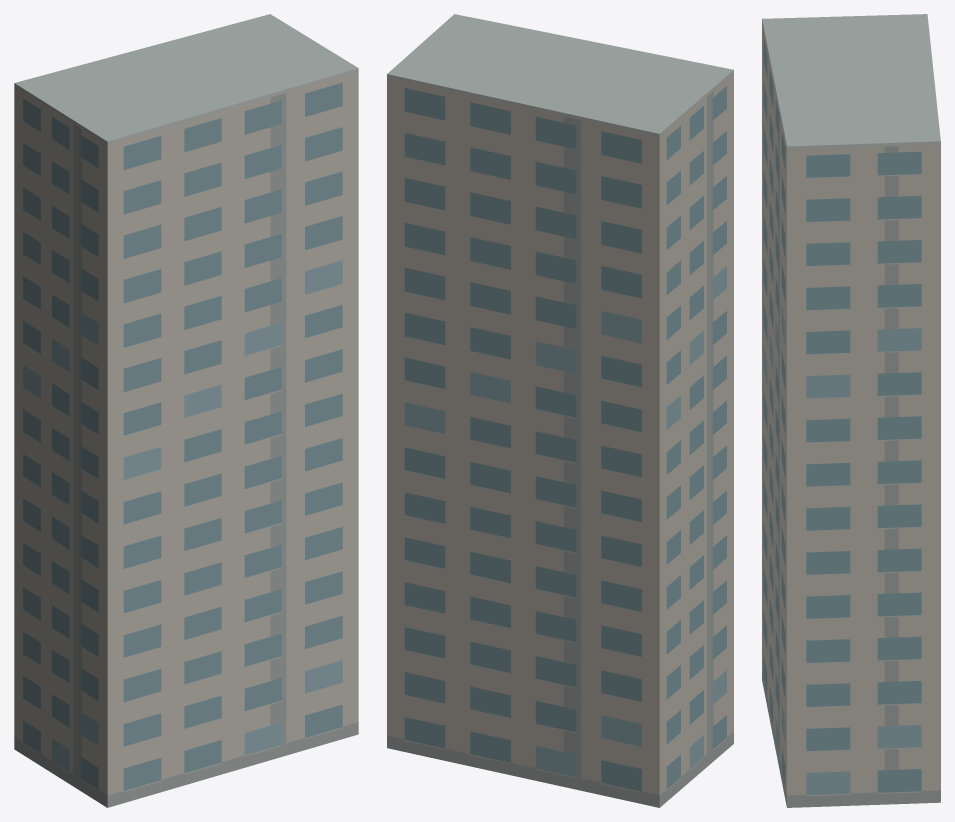
The model's file is residential-18de4385-13e5-437d-a8e8-4bba315f25b3.glb.
3 views of the same model, side by side, from view 1: azimuth 30°, elevation 25°; view 2: azimuth 150°, elevation 25°; view 3: azimuth 270°, elevation 25° (orthographic).
Visible parts, largest first — view 1: residential-18de4385-13e5-437d-a8e8-4bba315f25b3.tmp; view 2: residential-18de4385-13e5-437d-a8e8-4bba315f25b3.tmp; view 3: residential-18de4385-13e5-437d-a8e8-4bba315f25b3.tmp.
Boxes of the visible parts, <box> form: residential-18de4385-13e5-437d-a8e8-4bba315f25b3.tmp: <box>14,14,358,807</box>; residential-18de4385-13e5-437d-a8e8-4bba315f25b3.tmp: <box>387,14,733,807</box>; residential-18de4385-13e5-437d-a8e8-4bba315f25b3.tmp: <box>762,14,940,807</box>.
Size of the model in its own units: 19.34 by 45 by 11.03.
